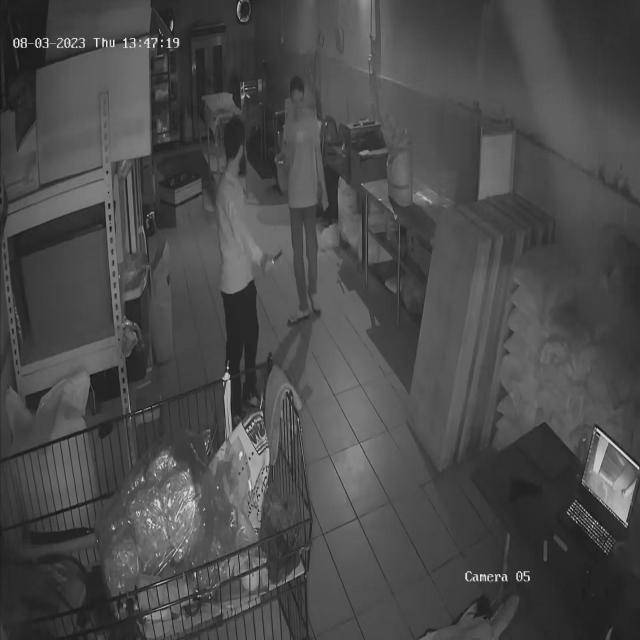Knife: (261, 228, 294, 278)
